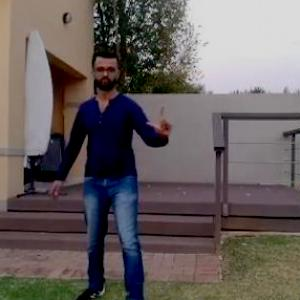land_hand: (145, 104, 178, 146)
